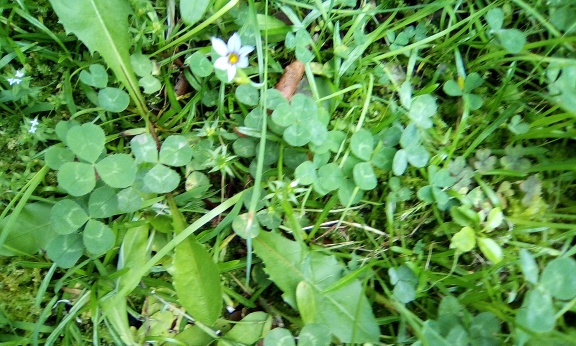4leaf: (272, 93, 328, 147), (416, 165, 451, 204)
